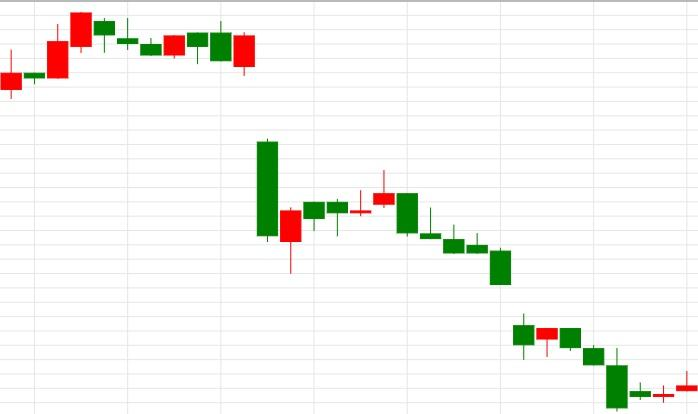bullish_engulfing_rise: (69, 11, 186, 59)
three_black_crows_fall: (279, 170, 466, 273)
